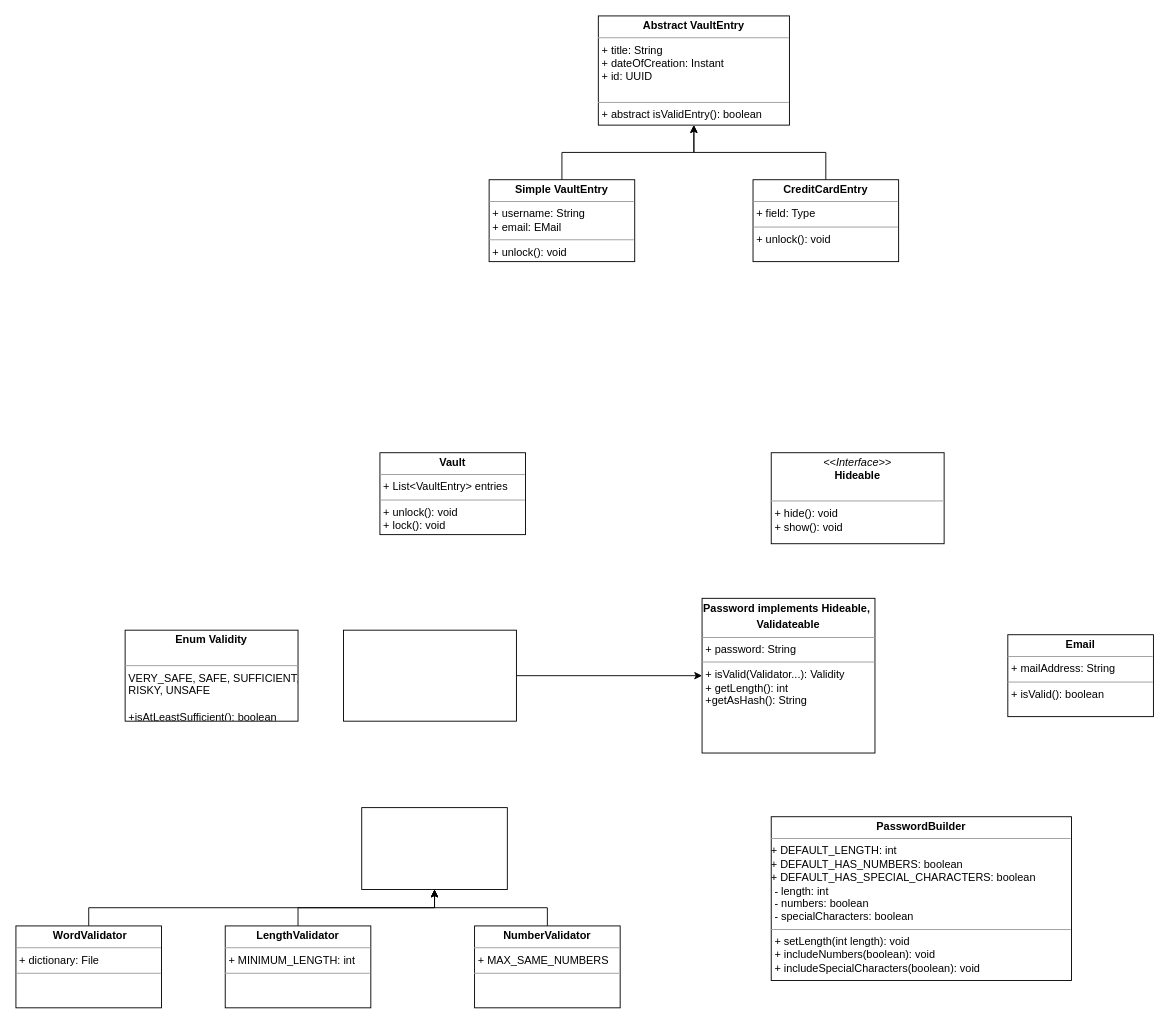
Image size: 1169x1024. Some labels were removed from this diagram. Here are the shapes that lost their labels. From the top down, the box of each, then its label:
(343, 629, 516, 721): <<Interface>> Validateable + isValid(Validator...): Validity
(361, 807, 507, 890): Abstract Validator + password: String + abstract validate(): Validity
